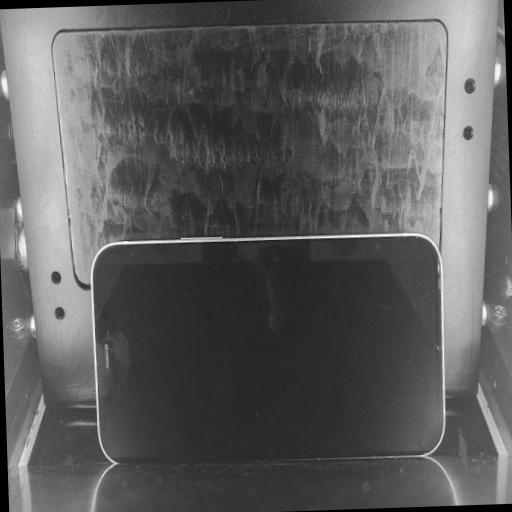phone: (85, 232, 446, 464)
